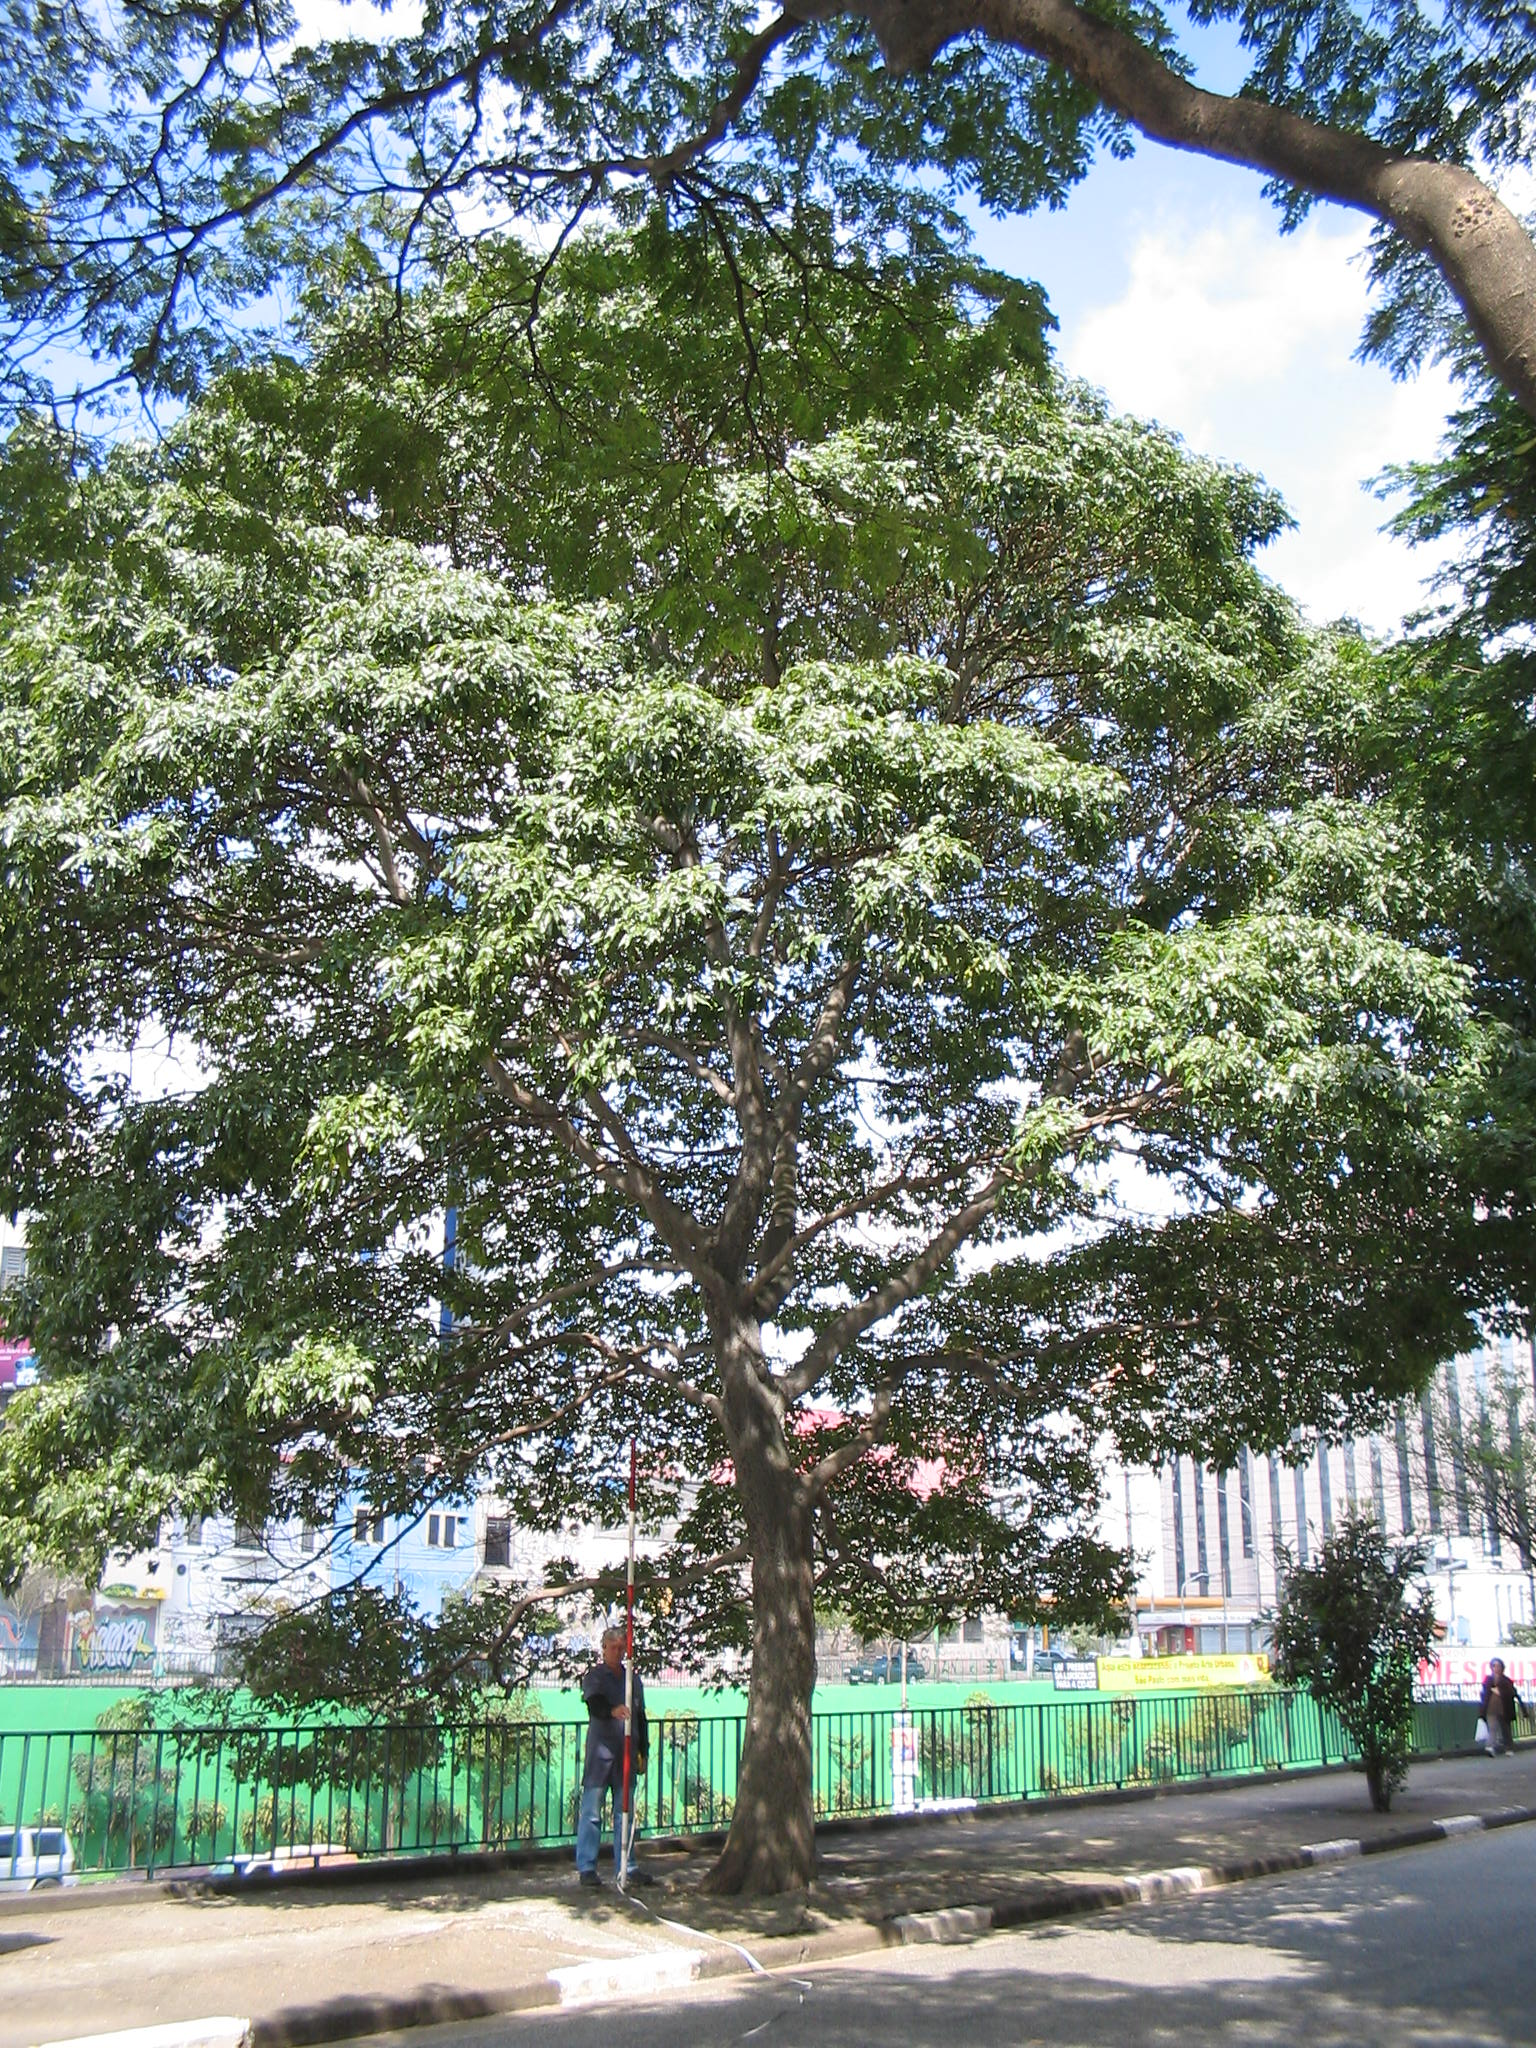crown: (11, 211, 1520, 1617)
stem: (679, 1500, 865, 1890)
stick: (594, 1434, 666, 1895)
tree: (3, 205, 1525, 1903), (1250, 1516, 1457, 1813)
